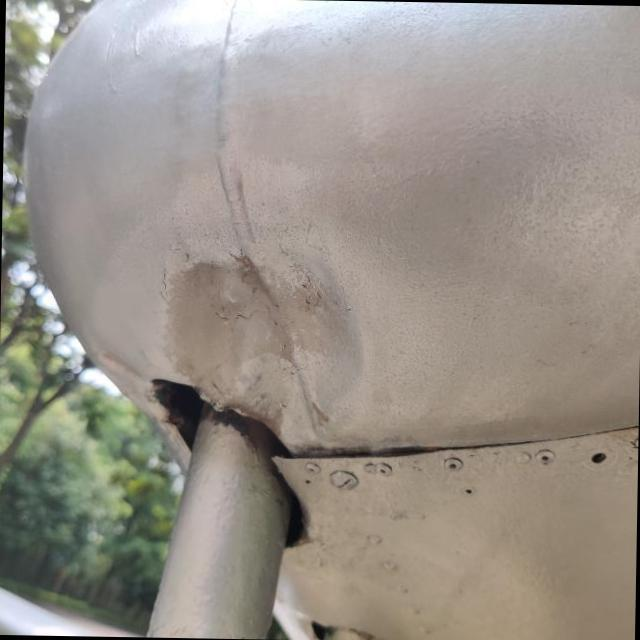Dent: (140, 225, 390, 468), (86, 338, 162, 400)
